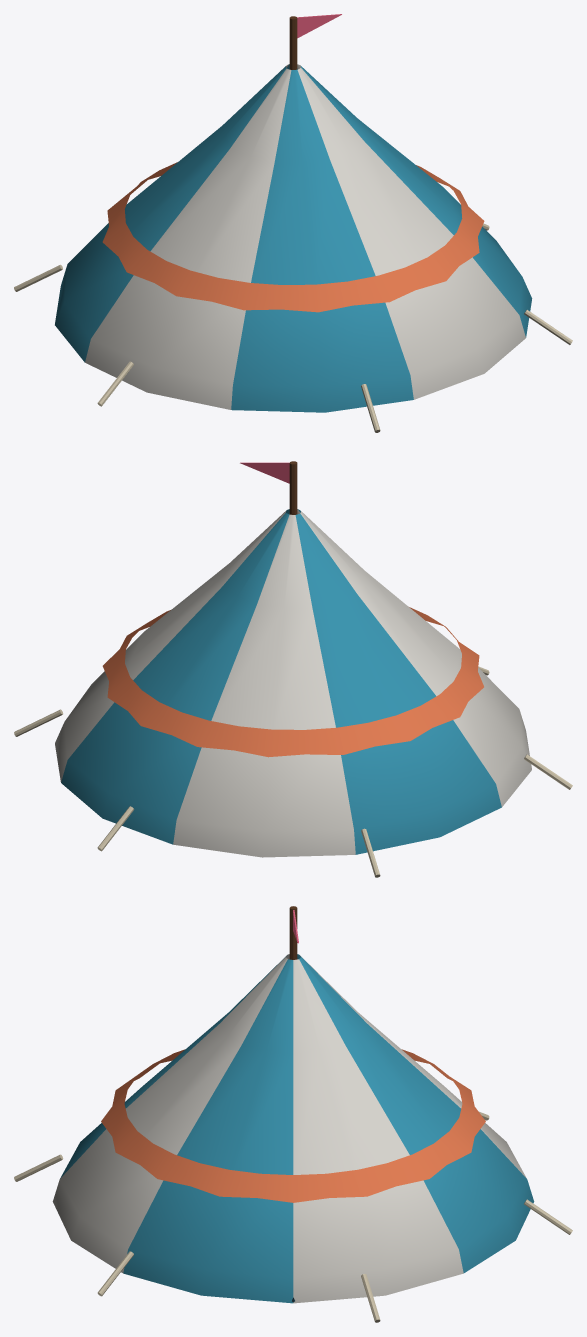
File: beach_tent.glb
The picture shows the model from 3 angles, top to bottom: view 1: azimuth 30°, elevation 25°; view 2: azimuth 150°, elevation 25°; view 3: azimuth 270°, elevation 25°; orthographic projection.
Parts seen in each view (by area): view 1: beach_tent; view 2: beach_tent; view 3: beach_tent.
Boxes of the visible parts, x1,y1,x2,y2 form: beach_tent: (14, 14, 572, 432); beach_tent: (14, 461, 572, 877); beach_tent: (14, 906, 572, 1322).
Bounding box in the file's own units: 5.58 × 3.38 × 5.69.
